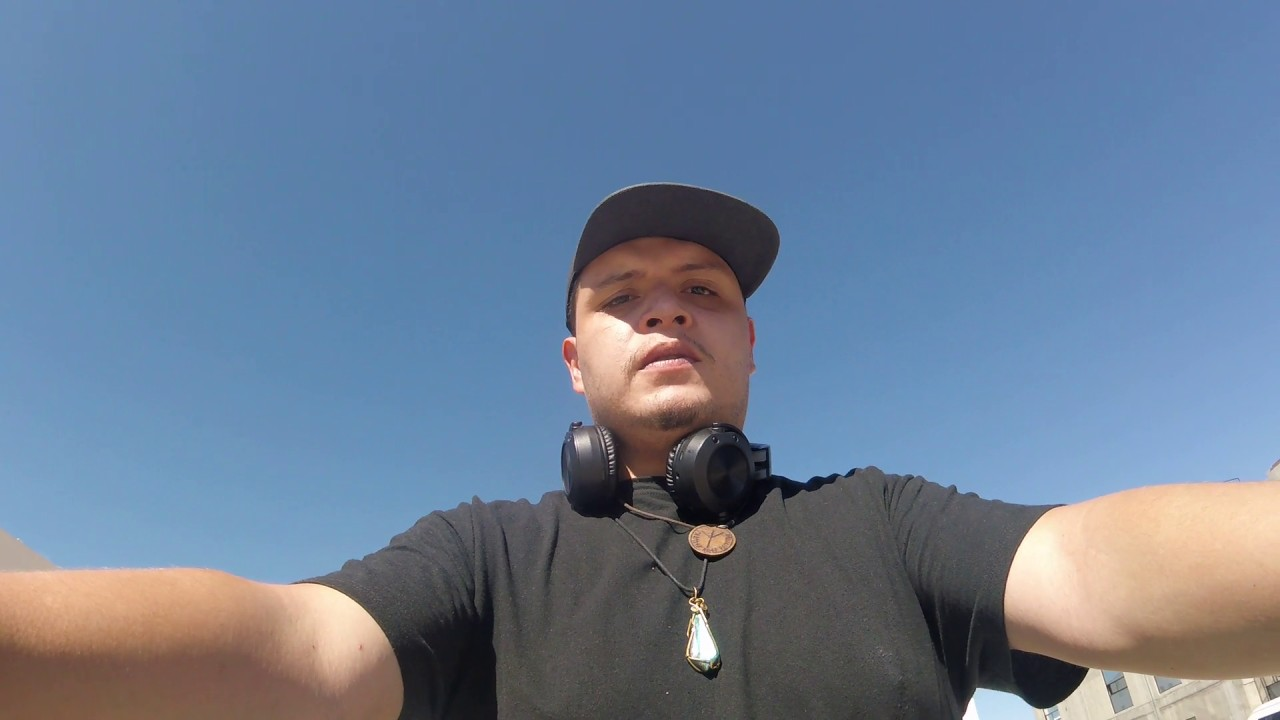Without Helmet: (550, 165, 788, 495)
